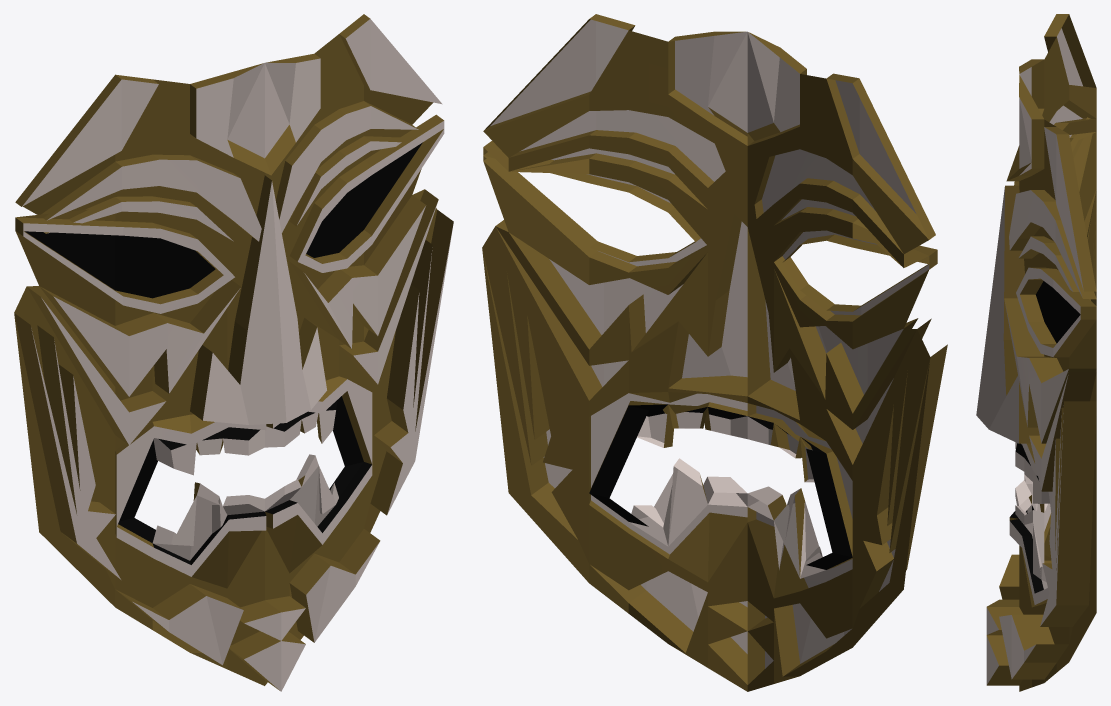
Rendered from maskBal.fbx.
3 renders of one model, left to right at view 1: azimuth 30°, elevation 25°; view 2: azimuth 150°, elevation 25°; view 3: azimuth 270°, elevation 25°, orthographic. The views are drawn at different scales.
Visible parts, largest first — view 1: Cube; view 2: Cube; view 3: Cube.
Part boxes in pixels (bbox=[...]): Cube: bbox=[14, 14, 453, 691]; Cube: bbox=[482, 14, 947, 691]; Cube: bbox=[976, 14, 1096, 691].
Bounding box in the file's own units: 25.8 × 36.31 × 6.42.
